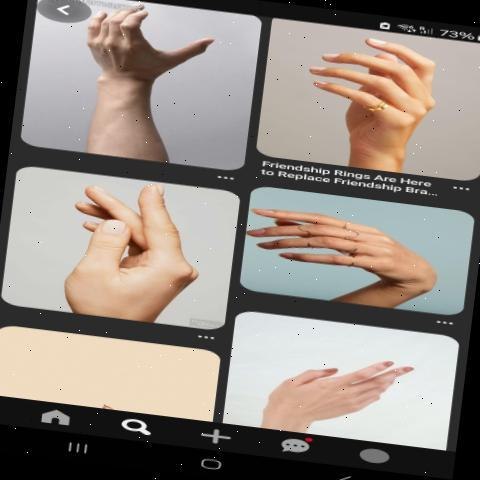Hands: (58, 162, 222, 326), (246, 187, 458, 307), (298, 19, 446, 163), (250, 318, 430, 434), (72, 0, 235, 106)
